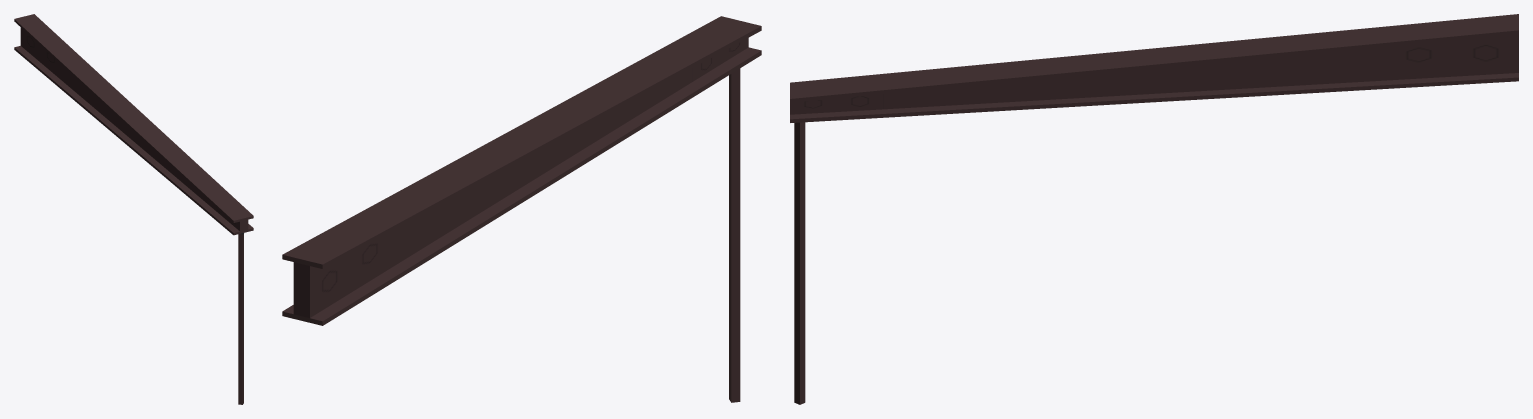
File: SW_ENV_EL_Station_Roof_MezzanineSupport.fbx
The picture shows the model from 3 angles, left to right: view 1: azimuth 30°, elevation 25°; view 2: azimuth 150°, elevation 25°; view 3: azimuth 270°, elevation 25°; orthographic projection. The views are drawn at different scales.
Parts seen in each view (by area): view 1: SW_ENV_EL_Station_Roof_MezzanineSupport; view 2: SW_ENV_EL_Station_Roof_MezzanineSupport; view 3: SW_ENV_EL_Station_Roof_MezzanineSupport.
Part boxes in pixels (box(x1,y1,x2,y2)): SW_ENV_EL_Station_Roof_MezzanineSupport: box(14, 14, 253, 404); SW_ENV_EL_Station_Roof_MezzanineSupport: box(282, 16, 761, 402); SW_ENV_EL_Station_Roof_MezzanineSupport: box(790, 14, 1518, 404).
Size of the model in its own units: 25 by 271 by 470.
